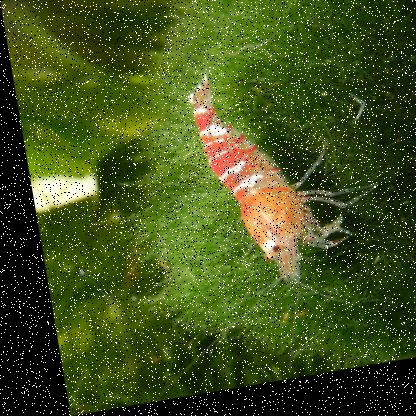shrimp: (179, 53, 383, 301)
